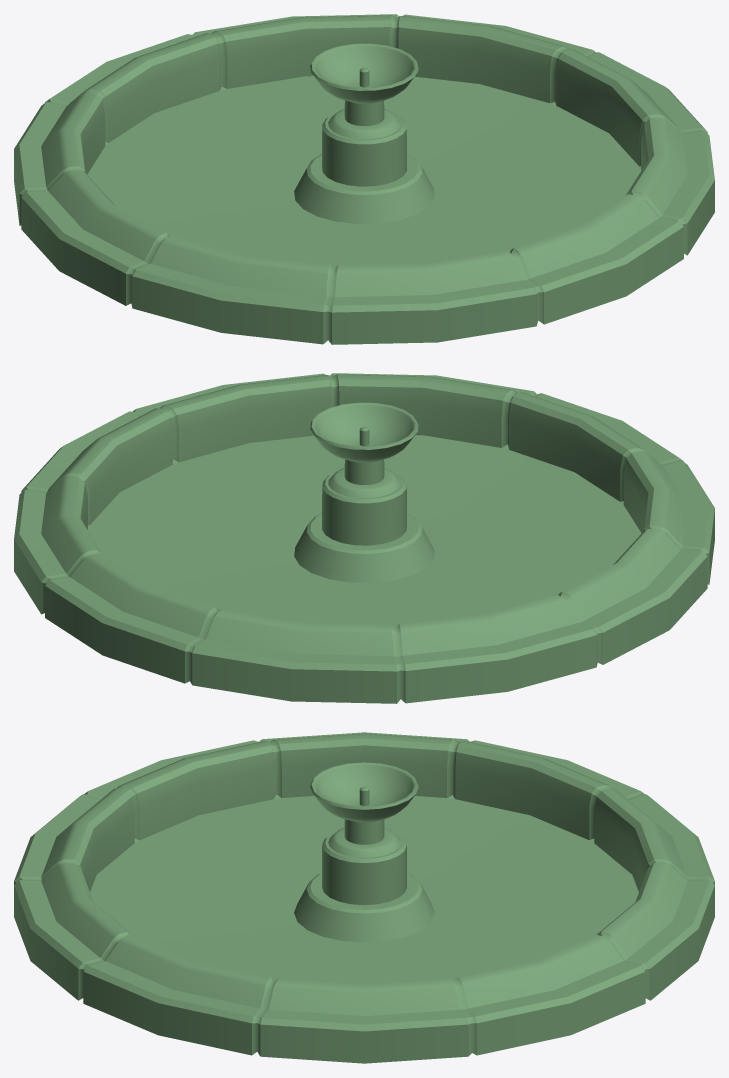
File: Fountain.fbx
3 renders of one model, top to bottom at view 1: azimuth 30°, elevation 25°; view 2: azimuth 150°, elevation 25°; view 3: azimuth 270°, elevation 25°, orthographic.
Visible parts, largest first — view 1: Fountain; view 2: Fountain; view 3: Fountain.
Part boxes in pixels (x1=…): Fountain: x1=14, y1=14, x2=714, y2=344; Fountain: x1=14, y1=373, x2=714, y2=703; Fountain: x1=14, y1=732, x2=714, y2=1063.
Size of the model in its own units: 8.11 by 1.66 by 8.1.
